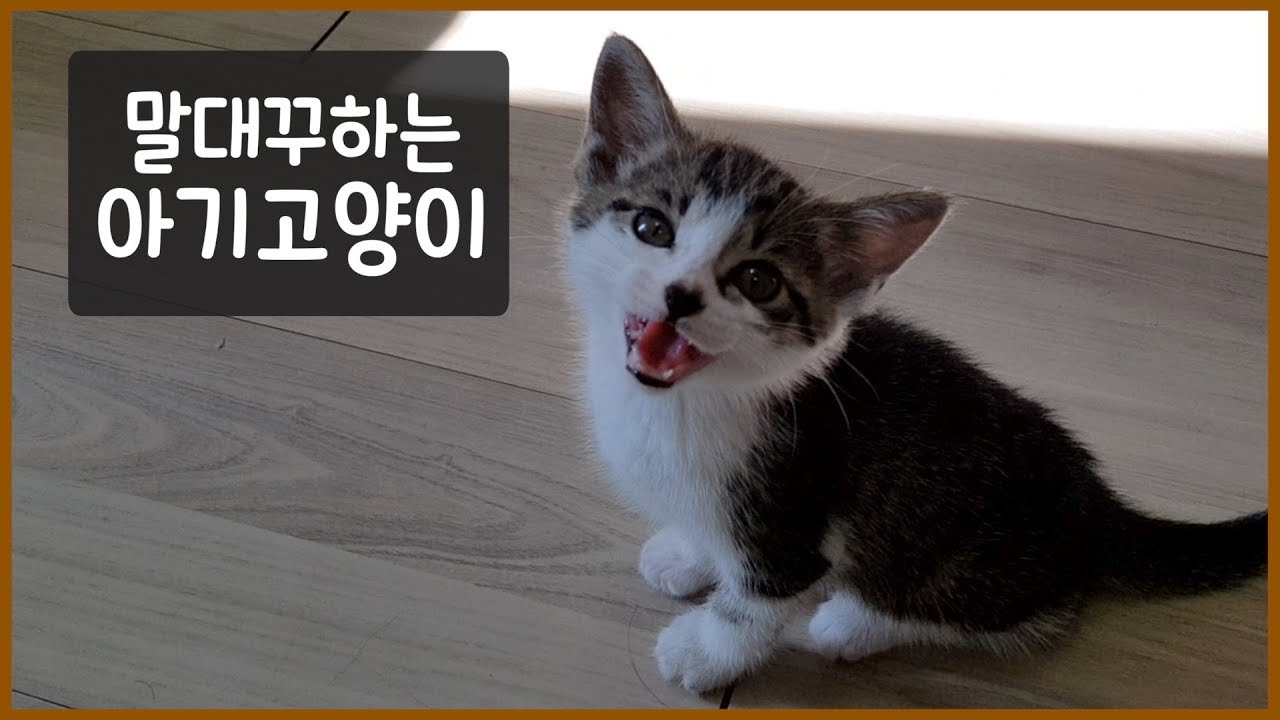cat: (538, 18, 1280, 714)
cat-face: (542, 24, 956, 417)
